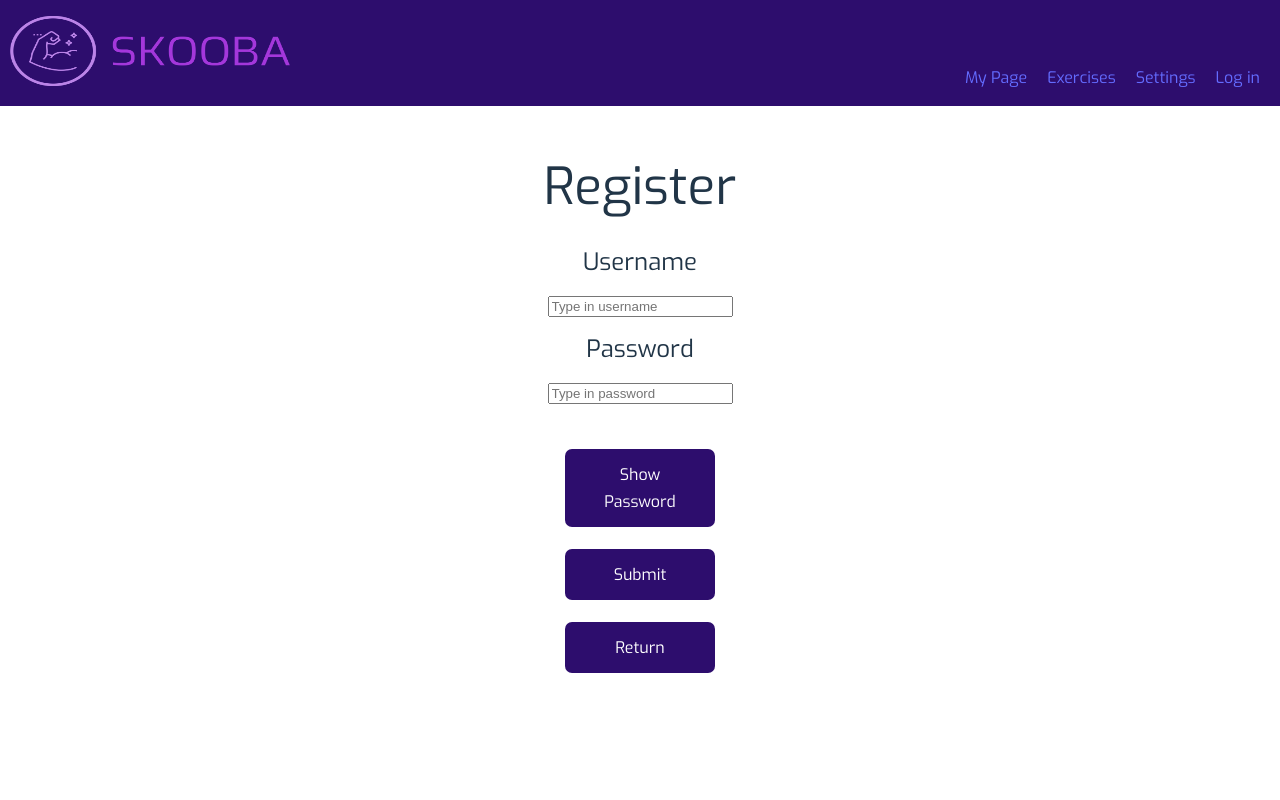
Scenario: Common register behaviour › Normal register redirects to login page
Type "user" into the field named "username".
click(641, 307); type("user")  # box 548,296 -> 733,317
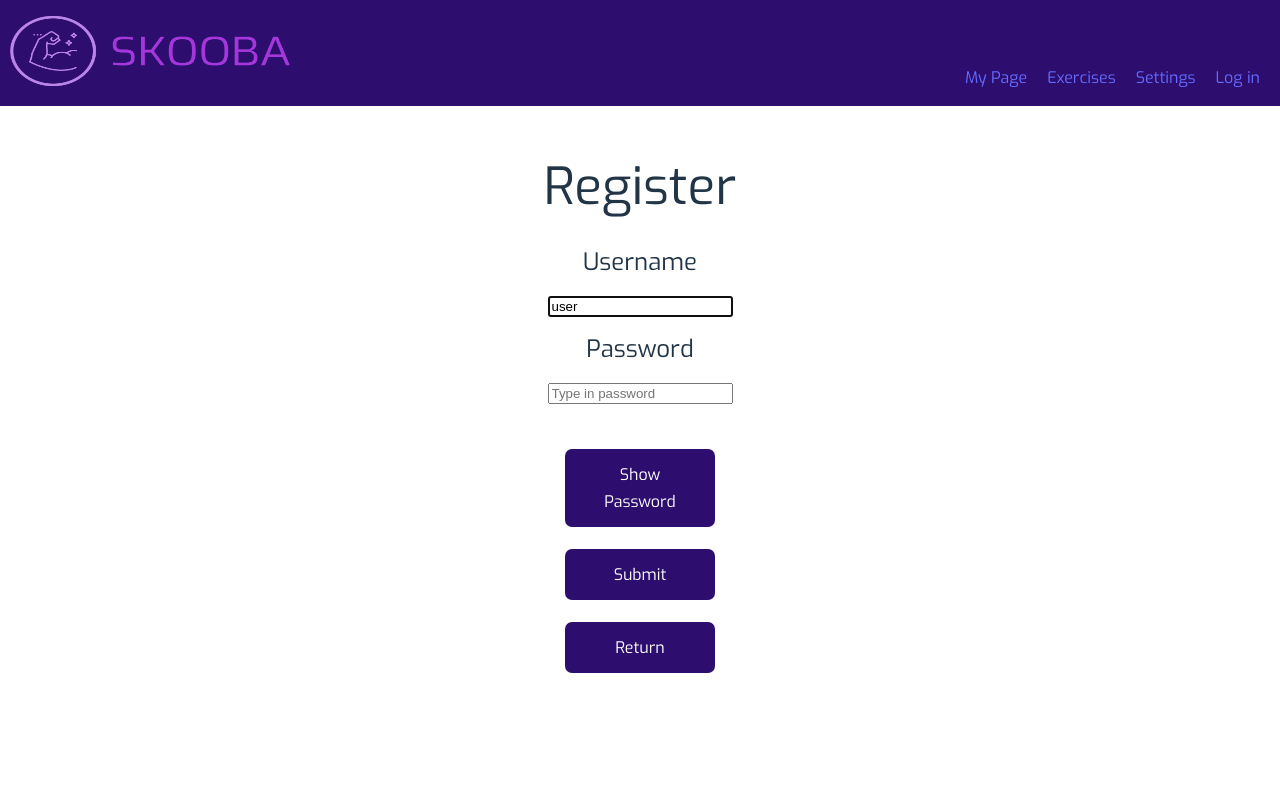
Type "password" into the password field named "password".
click(641, 394); type("password")  # box 548,383 -> 733,404
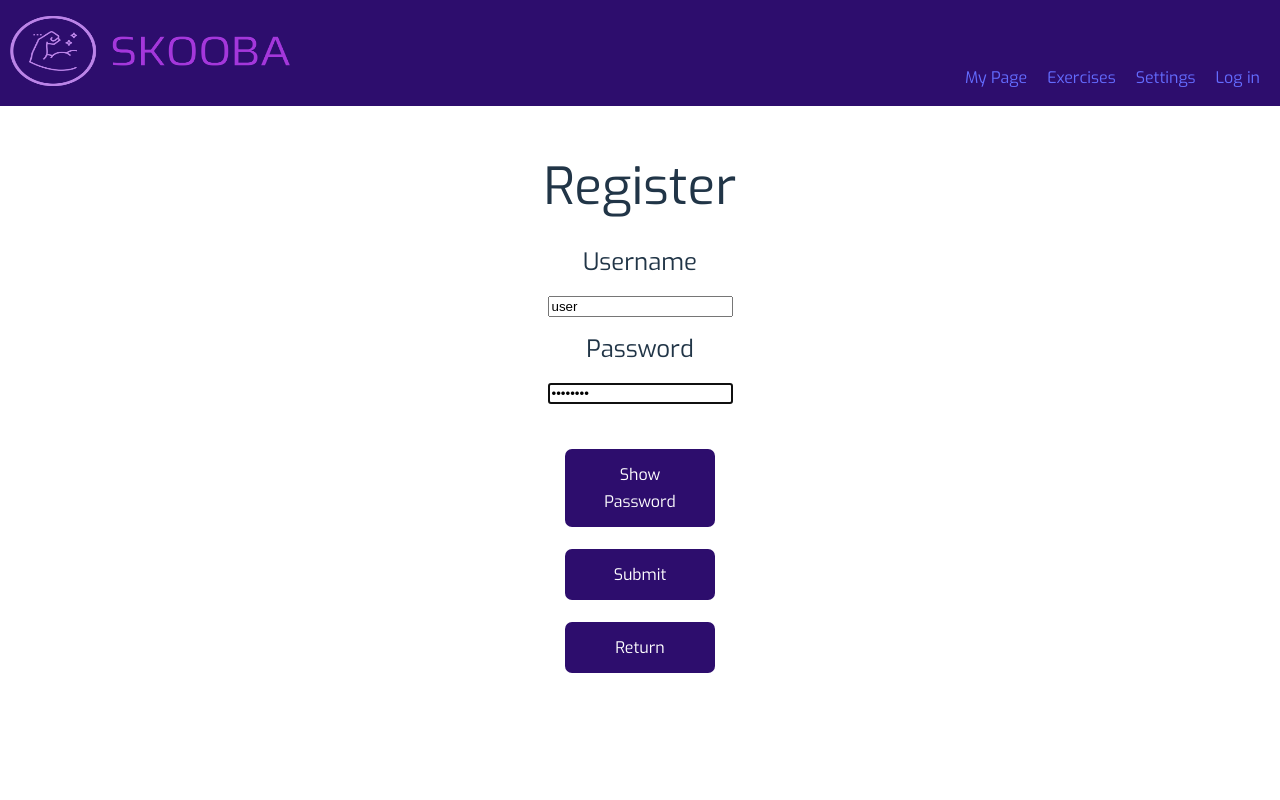
Click the button "Submit".
click(640, 575)  # box 565,549 -> 715,600
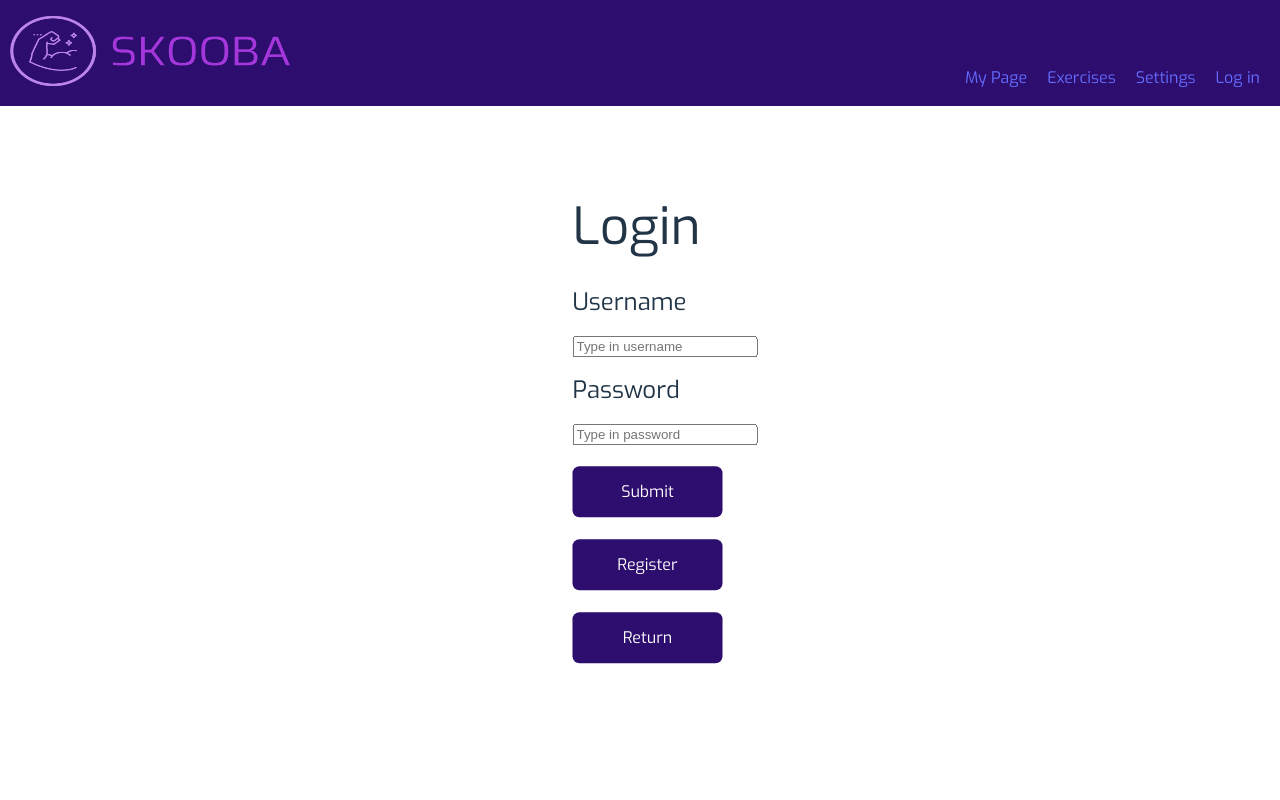
Check: the heading "Login" is shown, box 572,194 -> 701,262
